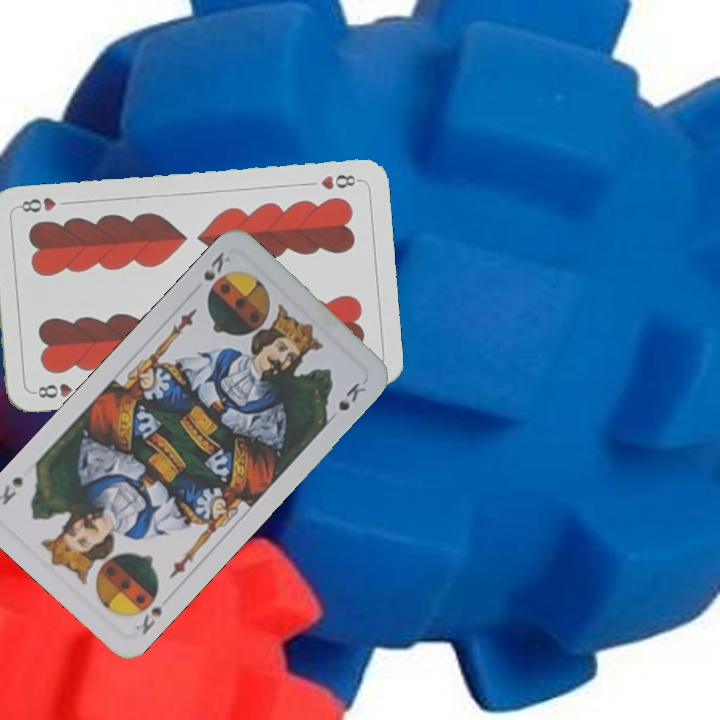H8: (29, 379, 88, 401), (317, 170, 363, 193)
SK: (129, 585, 166, 638), (199, 247, 234, 284)
